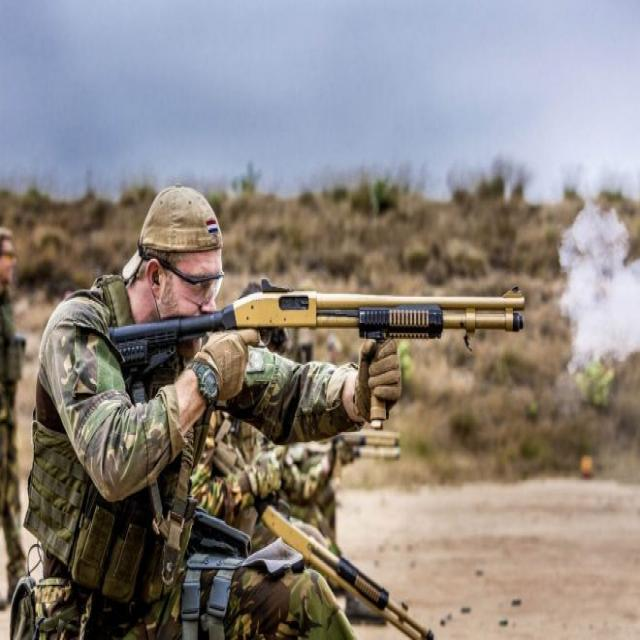shotgun: (95, 278, 533, 386)
